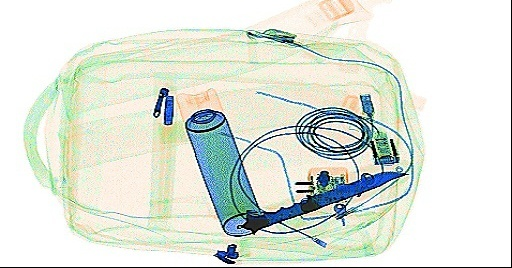knife: (232, 170, 411, 237)
pressure: (172, 86, 262, 237)
